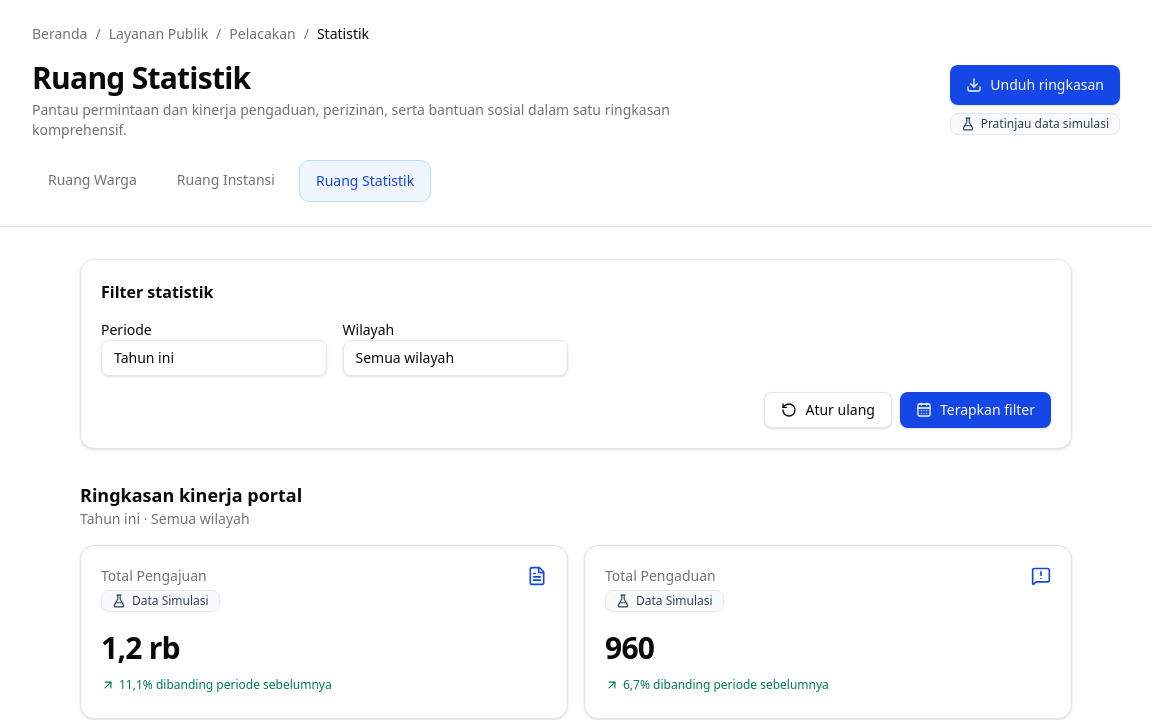
StatisticsRoom › requires a valid custom date range before applying filters
Expected: the text "Tahun ini · Semua wilayah" is shown, [80, 509, 250, 528]
Select "Kustom" in the dropdown named "Periode statistik" at (214, 358), box [101, 340, 326, 376]
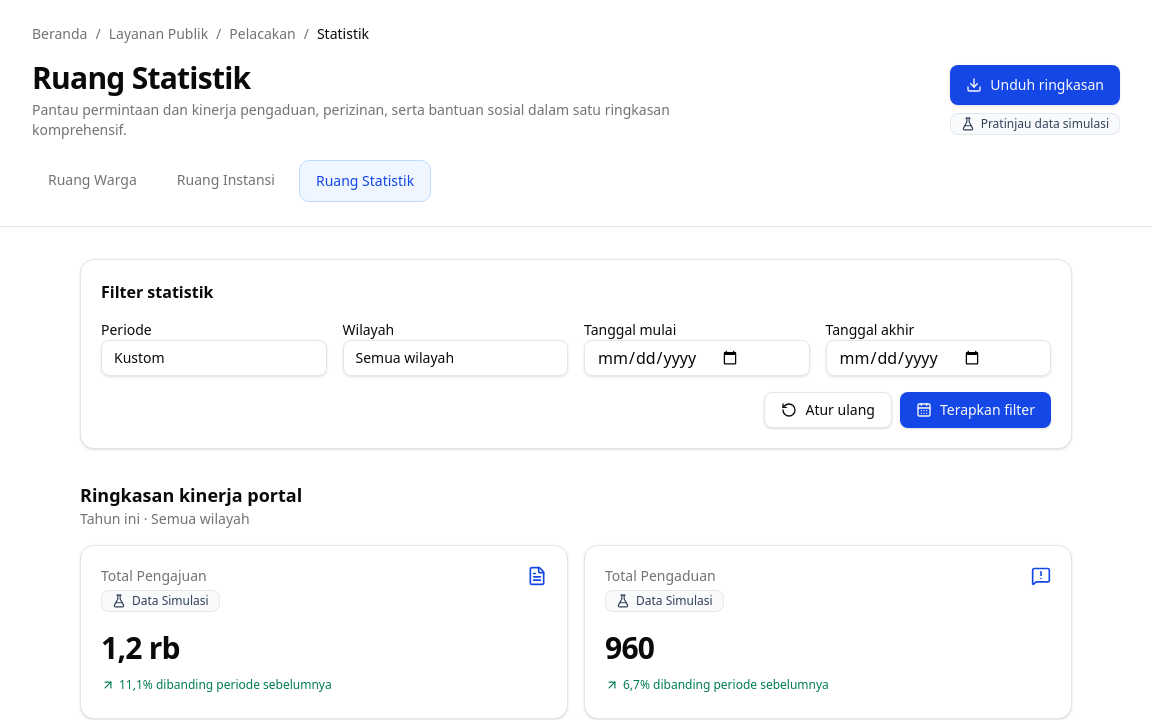
Type "2026-04-01" into the date field labelled "Tanggal mulai".
click(697, 358); type("2026-04-01")  # box [584, 340, 810, 376]
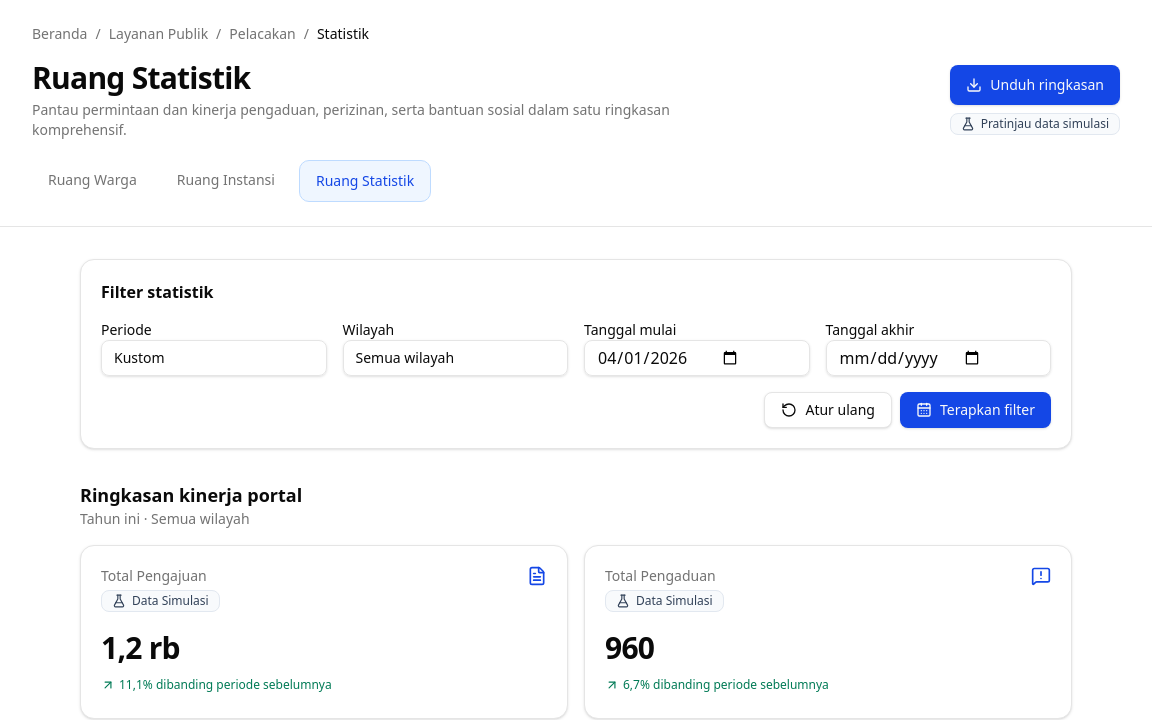
Type "2026-03-01" into the date field labelled "Tanggal akhir".
click(938, 358); type("2026-03-01")  # box [826, 340, 1051, 376]
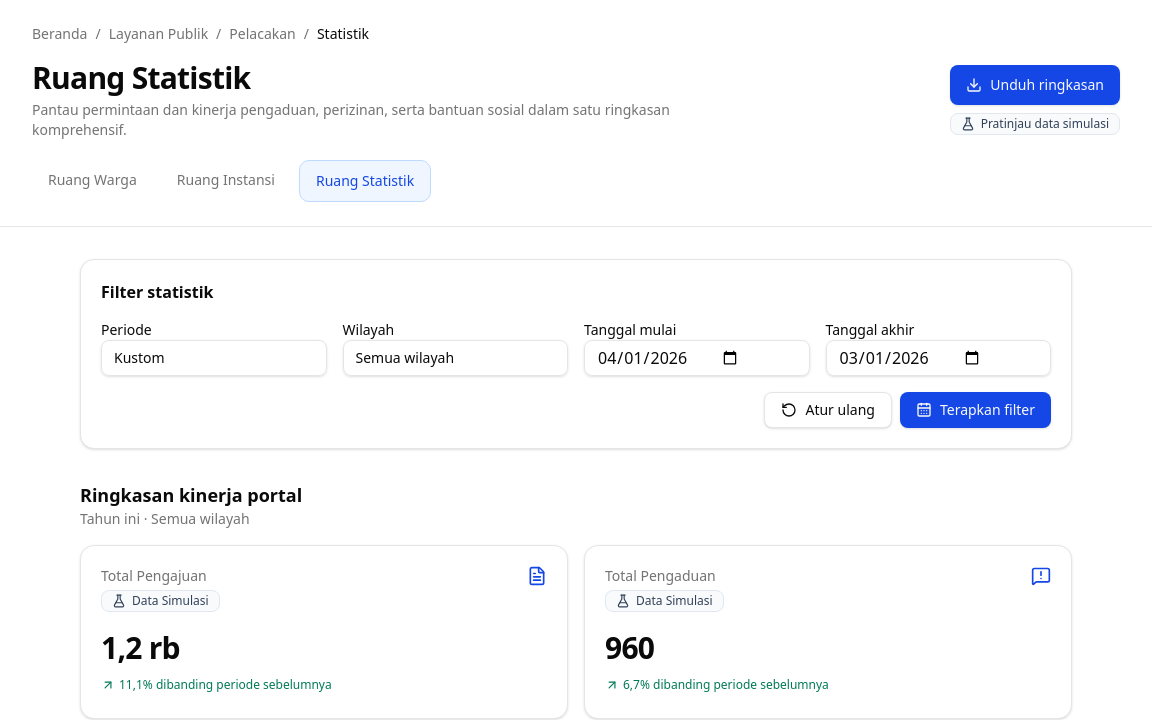
Click the button "Terapkan filter".
click(975, 410)  # box [900, 392, 1051, 428]
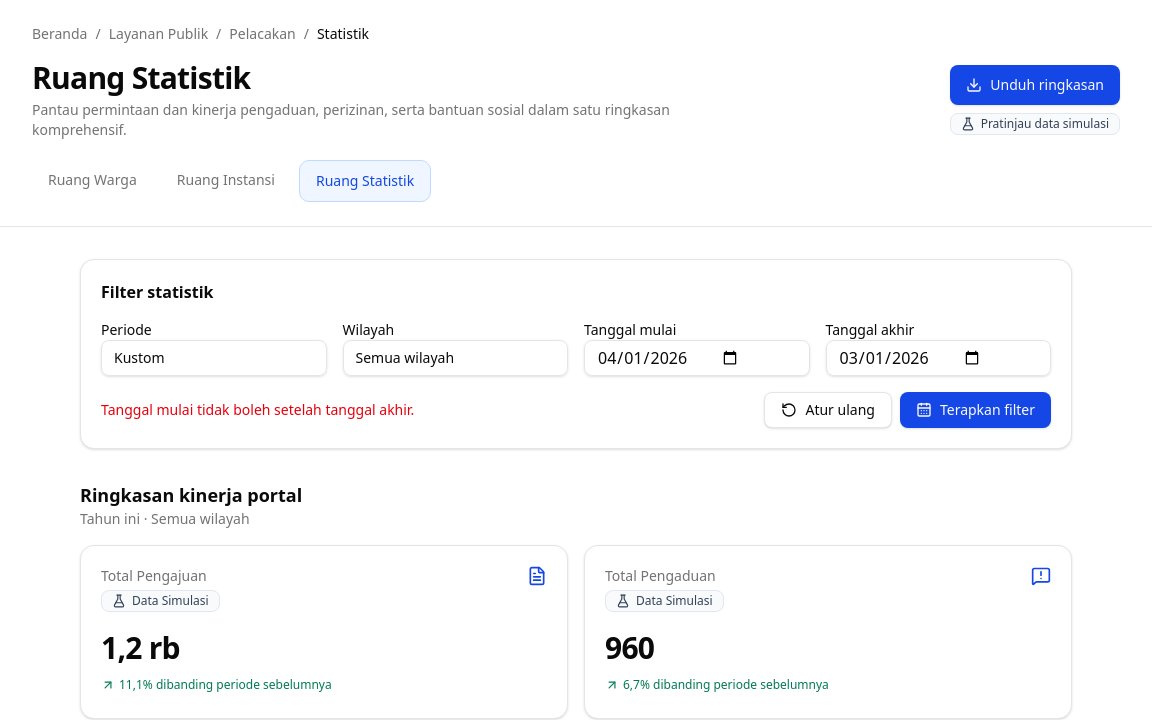
Expected: the text "Tanggal mulai tidak boleh setelah tanggal akhir." is shown, [101, 400, 414, 420]
